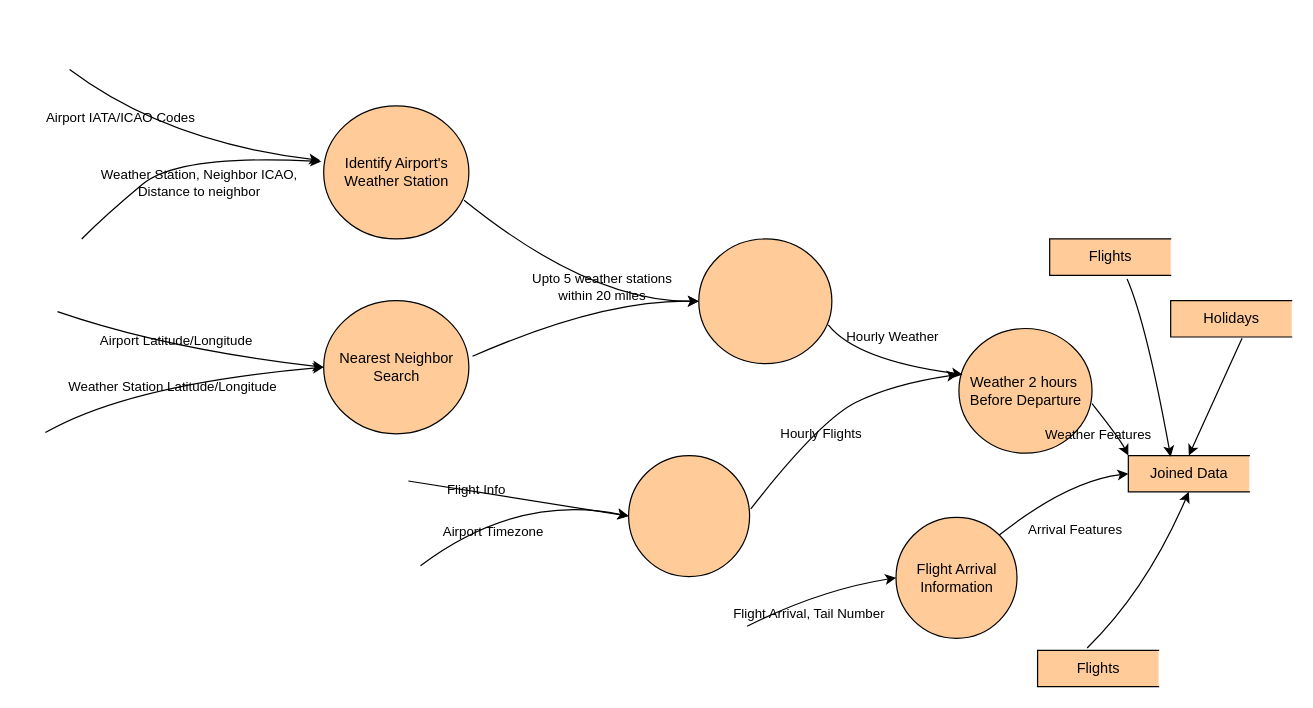
The diagram is 1313 pixels wide and 708 high, and some of its shapes have lost their labels. The shapes that lost their labels are listed below. From the top down, each one's box as (x1, y1, x2, y2) in pixels, then its label:
(698, 238, 832, 364): Aggregate and Window Weather
(627, 454, 750, 577): Time Window For Flights
